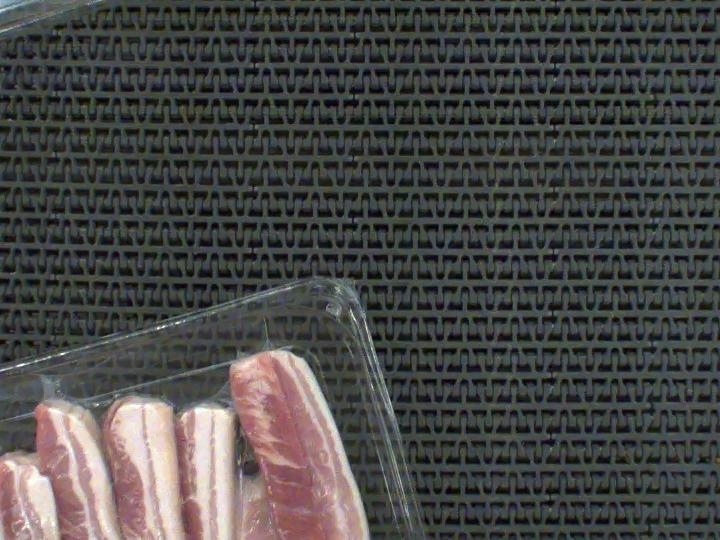loose-meat: (227, 353, 370, 540)
packaging-error: (3, 318, 82, 434)
